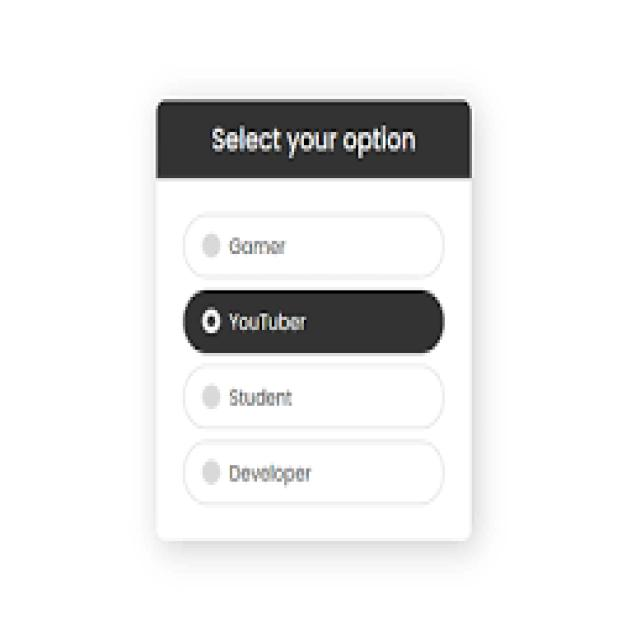radio: (205, 300, 425, 351), (192, 454, 434, 498), (194, 376, 428, 421), (196, 224, 426, 268)
text: (211, 119, 424, 165)
